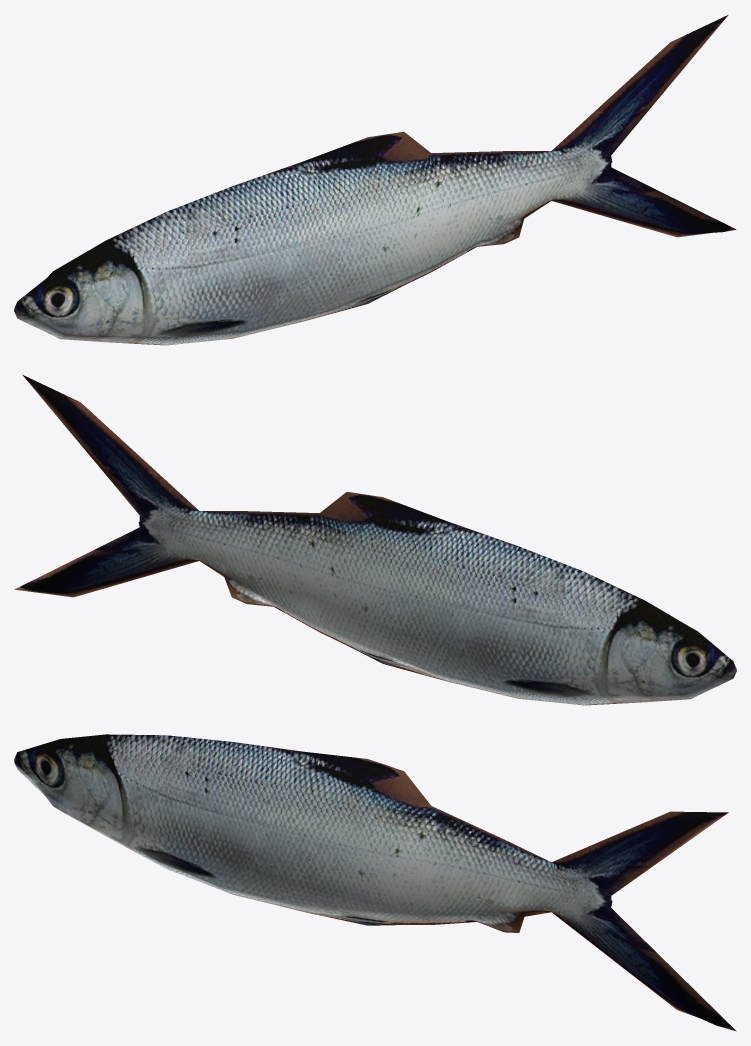
File: AR_Species_Milkfish.fbx
3 renders of one model, top to bottom at view 1: azimuth 30°, elevation 25°; view 2: azimuth 150°, elevation 25°; view 3: azimuth 330°, elevation 25°, orthographic.
Visible parts, largest first — view 1: Milkfish.002; view 2: Milkfish.002; view 3: Milkfish.002.
Boxes of the visible parts, x1,y1,x2,y2 form: Milkfish.002: (14, 15, 736, 345); Milkfish.002: (14, 375, 736, 705); Milkfish.002: (14, 734, 736, 1031).
Size of the model in its own units: 228 by 65.43 by 17.12.
